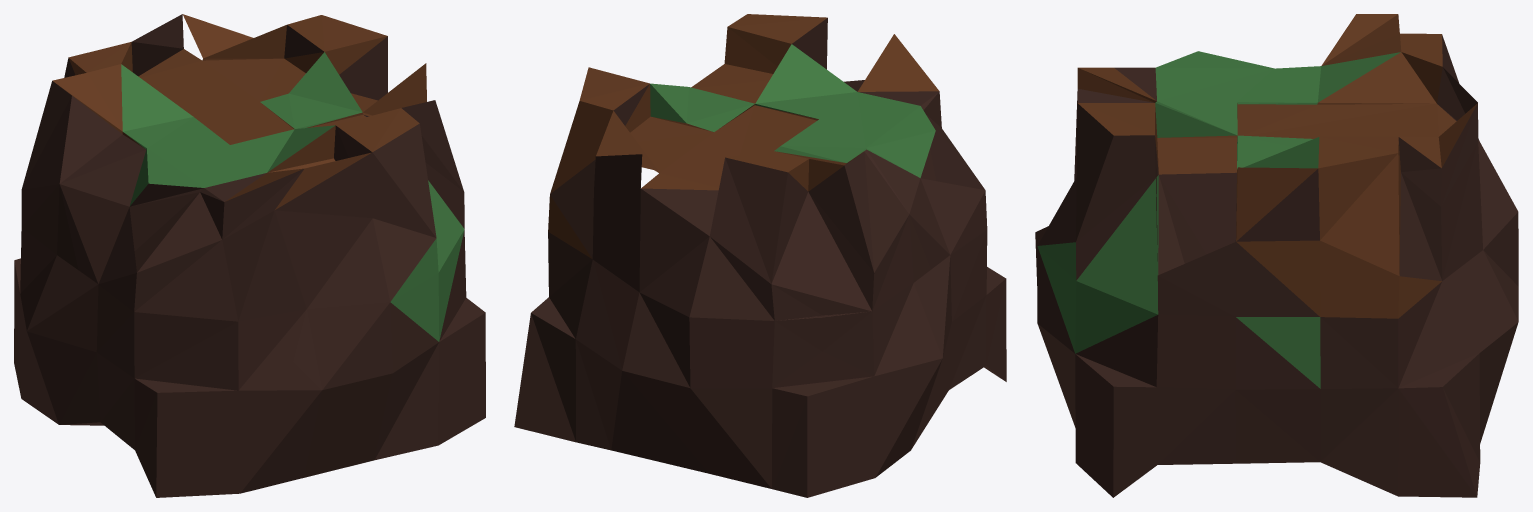
Rendered from mossy-stump.glb.
3 renders of one model, left to right at view 1: azimuth 30°, elevation 25°; view 2: azimuth 150°, elevation 25°; view 3: azimuth 270°, elevation 25°, orthographic. The views are drawn at different scales.
Bounding box in the file's own units: 0.7283 × 0.5946 × 0.7894.
